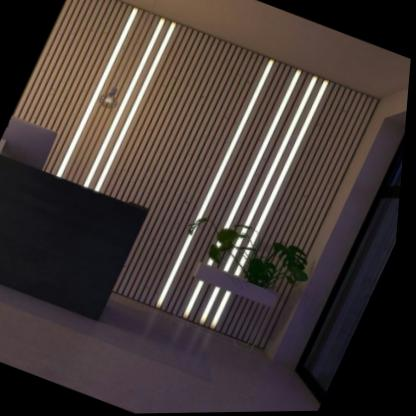Wall Panel: (12, 0, 381, 349)
